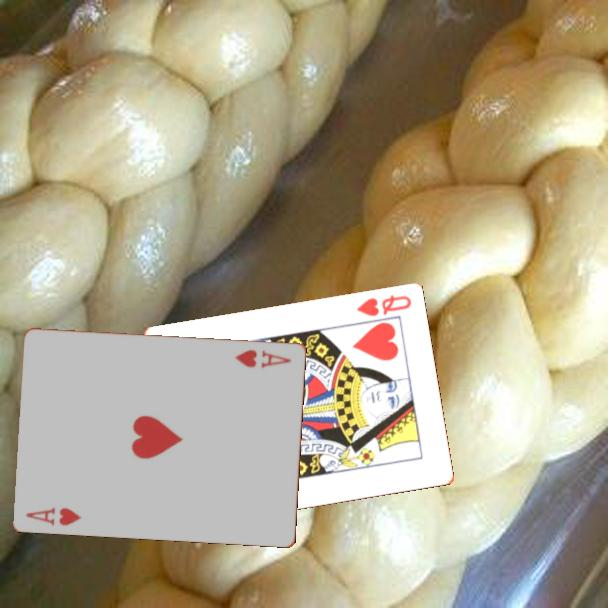h01: (232, 346, 294, 371), (23, 503, 85, 528)
h12: (353, 292, 414, 319)
